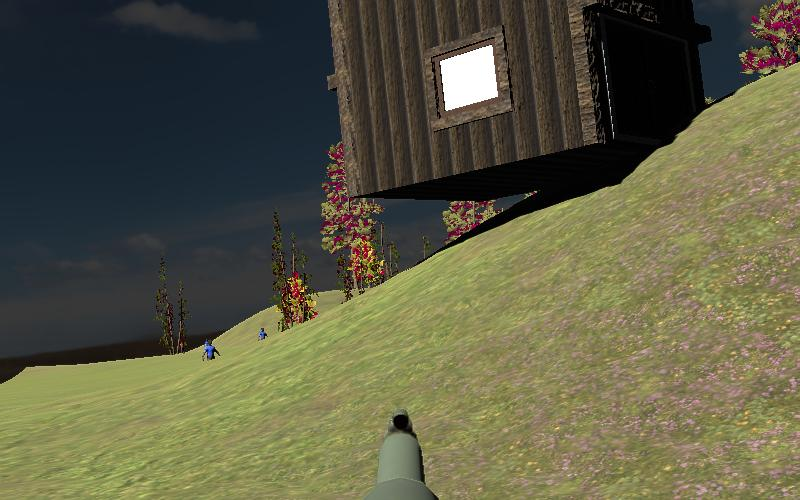Human: (201, 340, 221, 367), (257, 326, 270, 343)
